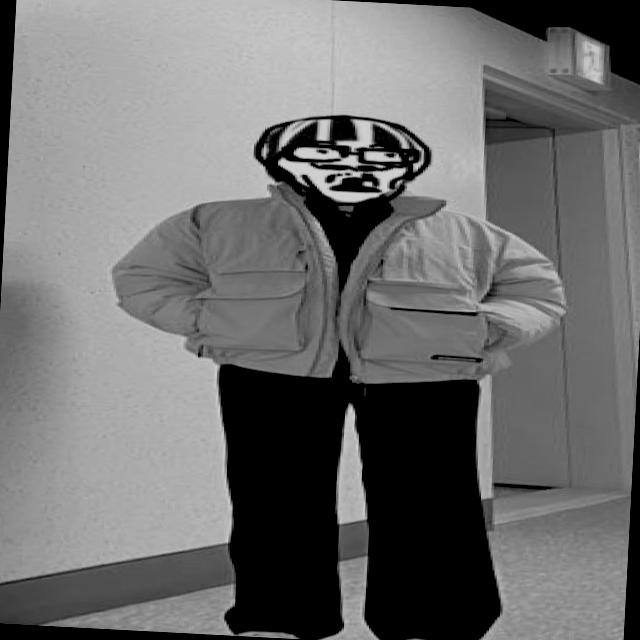padding: (103, 175, 576, 392)
slacks: (208, 363, 514, 640)
